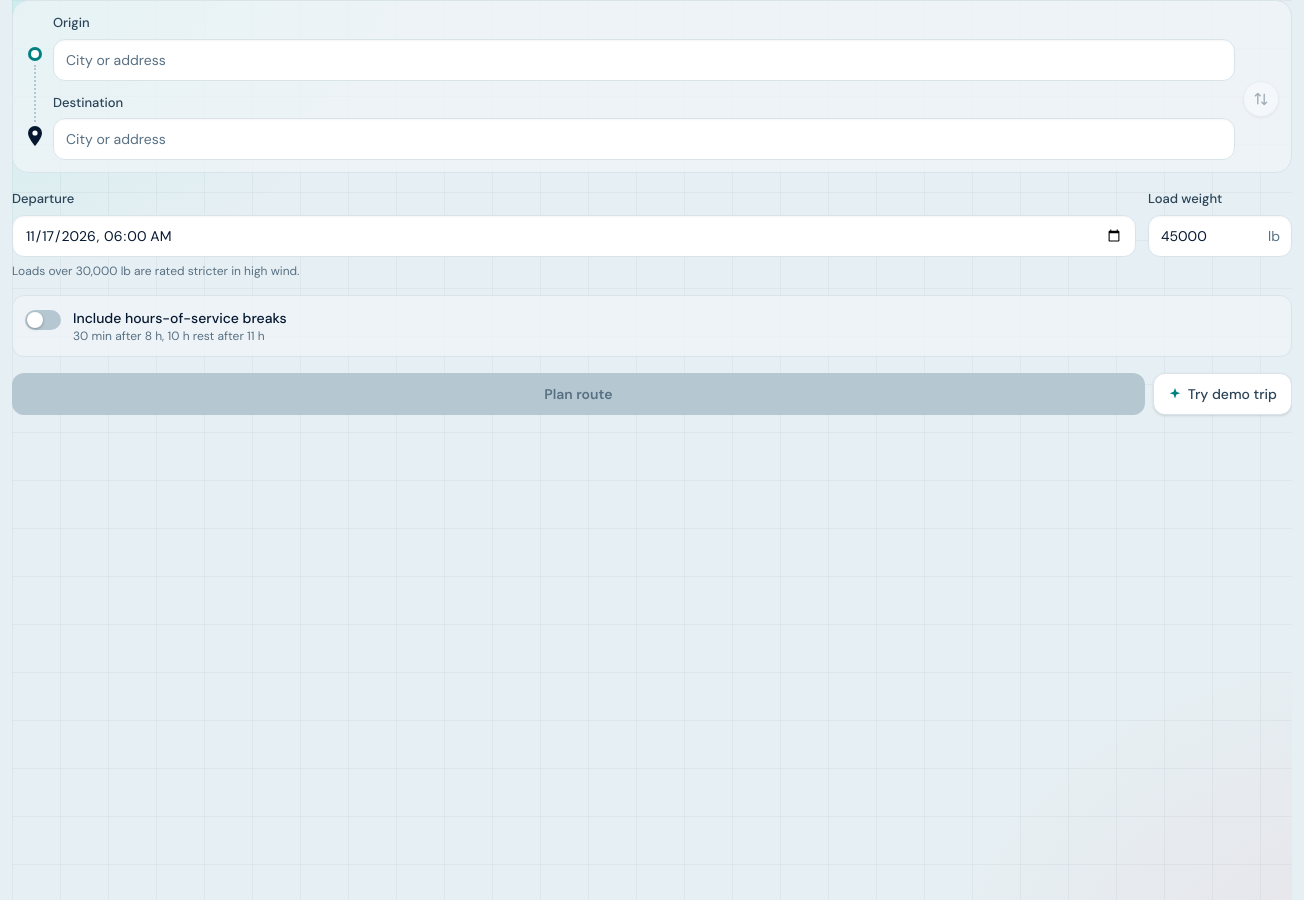
Scenario: the swap button exchanges origin and destination
The width and height of the screenshot is (1304, 900).
Later steps or results of the test are not shown.
Check: the button named "Swap origin and destination" is disabled, box top-left (1243, 80), bottom-right (1279, 116)
Click the button "Try demo trip" at [1222, 394], box top-left (1153, 372), bottom-right (1292, 414)
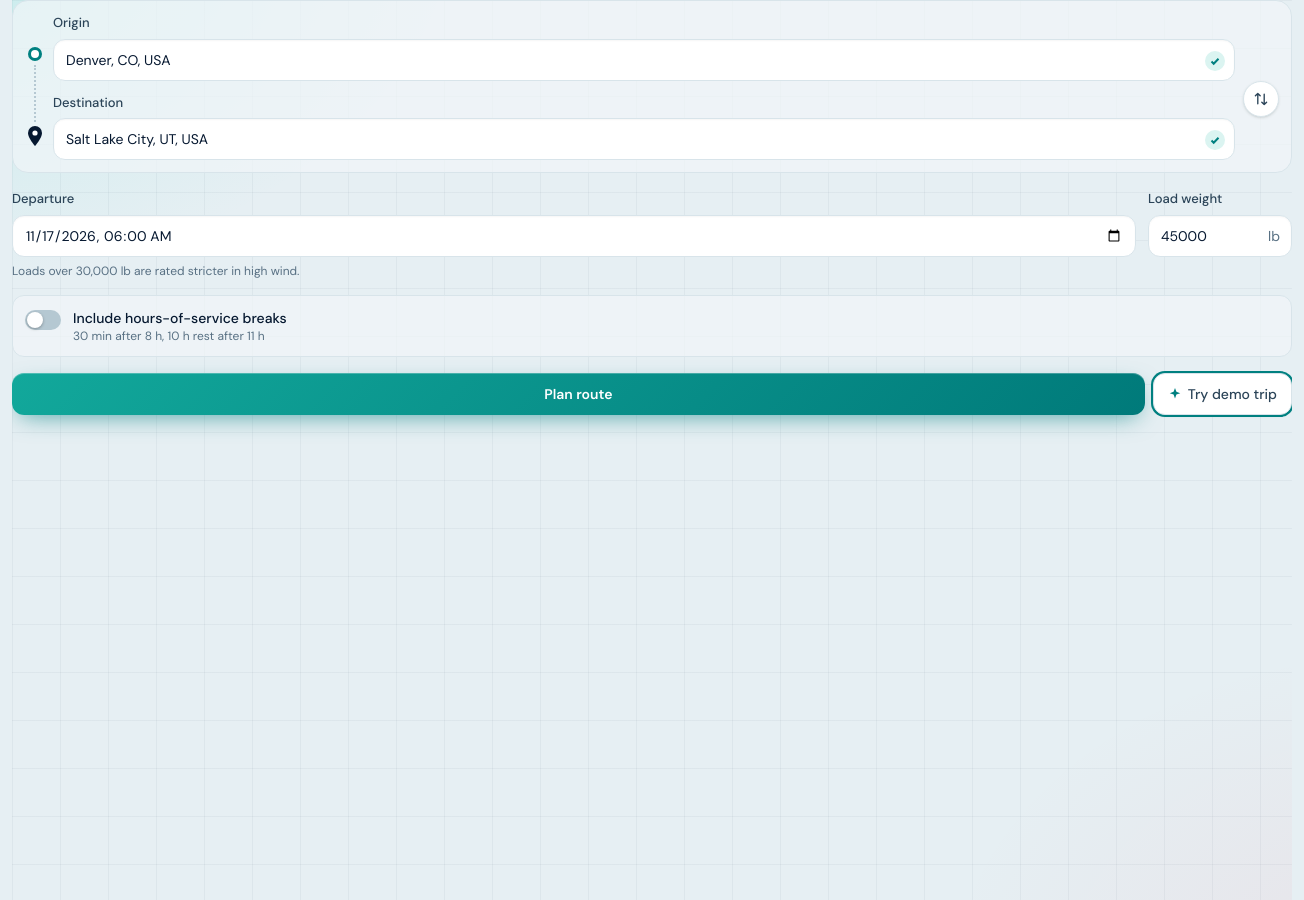
Click the button named "Swap origin and destination" at [1261, 98], box top-left (1243, 80), bottom-right (1279, 116)
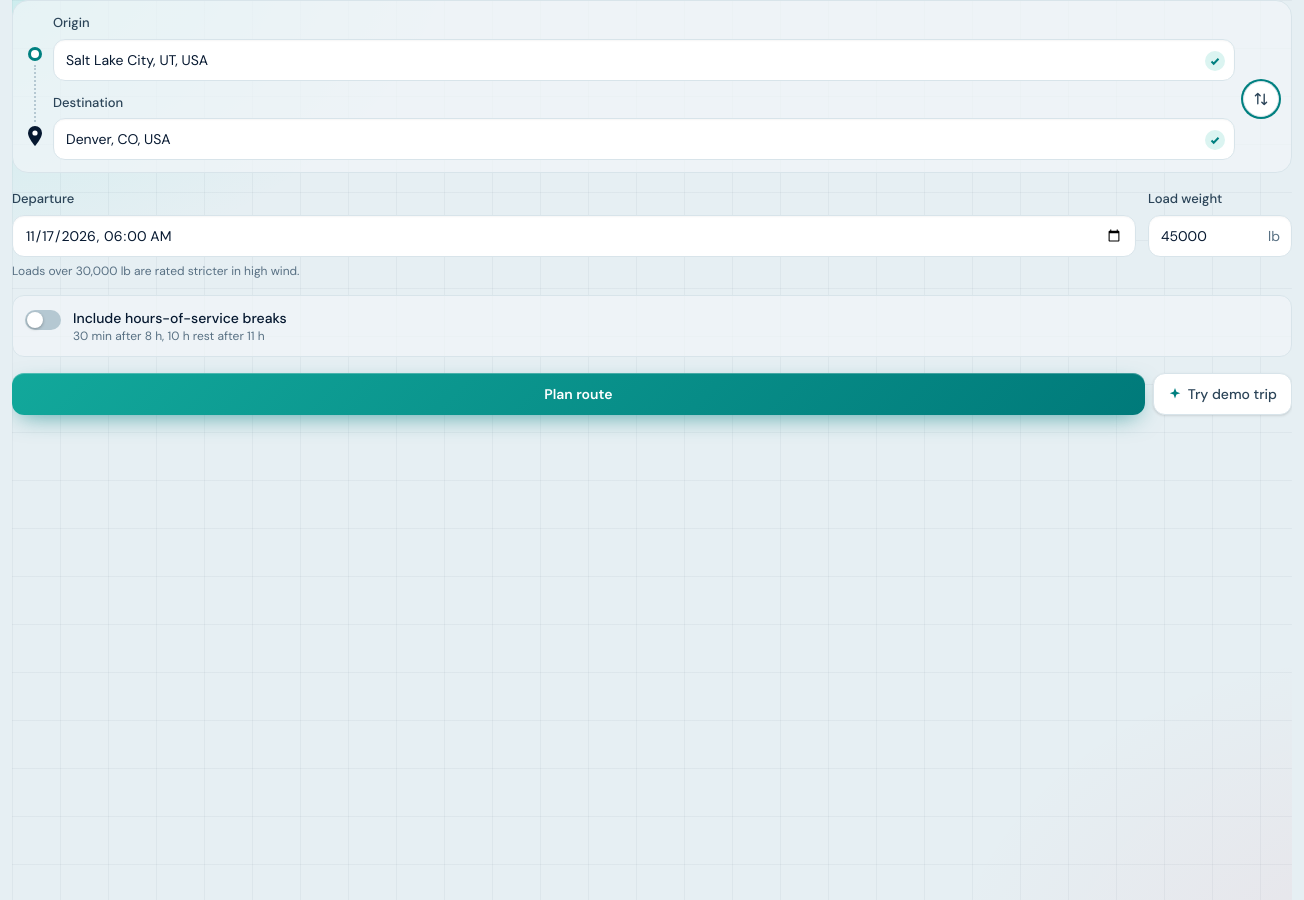
Check: the dropdown labelled "Origin" holds "Salt Lake City, UT, USA", box top-left (53, 38), bottom-right (1235, 80)
Check: the dropdown labelled "Destination" holds "Denver, CO, USA", box top-left (53, 118), bottom-right (1235, 160)
